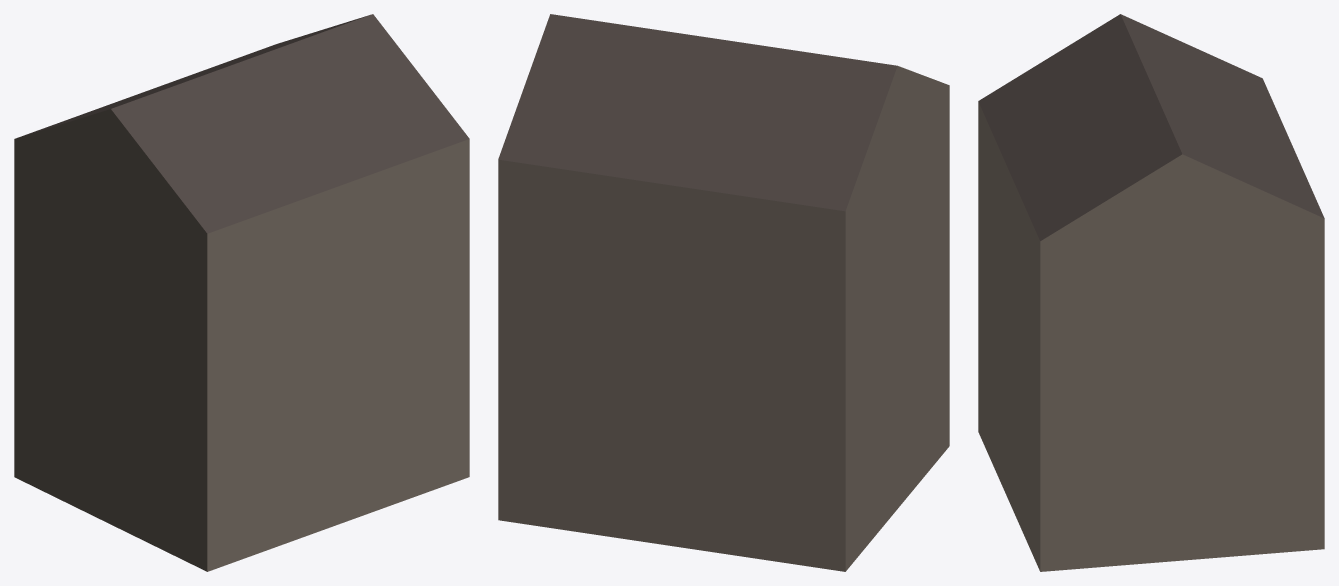
The picture shows the model from 3 angles, left to right: view 1: azimuth 30°, elevation 25°; view 2: azimuth 150°, elevation 25°; view 3: azimuth 270°, elevation 25°; orthographic projection. The views are drawn at different scales.
Parts seen in each view (by area): view 1: HP-w479413171; view 2: HP-w479413171; view 3: HP-w479413171.
Boxes of the visible parts, x1,y1,x2,y2 form: HP-w479413171: [14, 14, 469, 571]; HP-w479413171: [498, 14, 949, 571]; HP-w479413171: [978, 14, 1324, 571].
Size of the model in its own units: 6.35 by 7.37 by 5.7.
